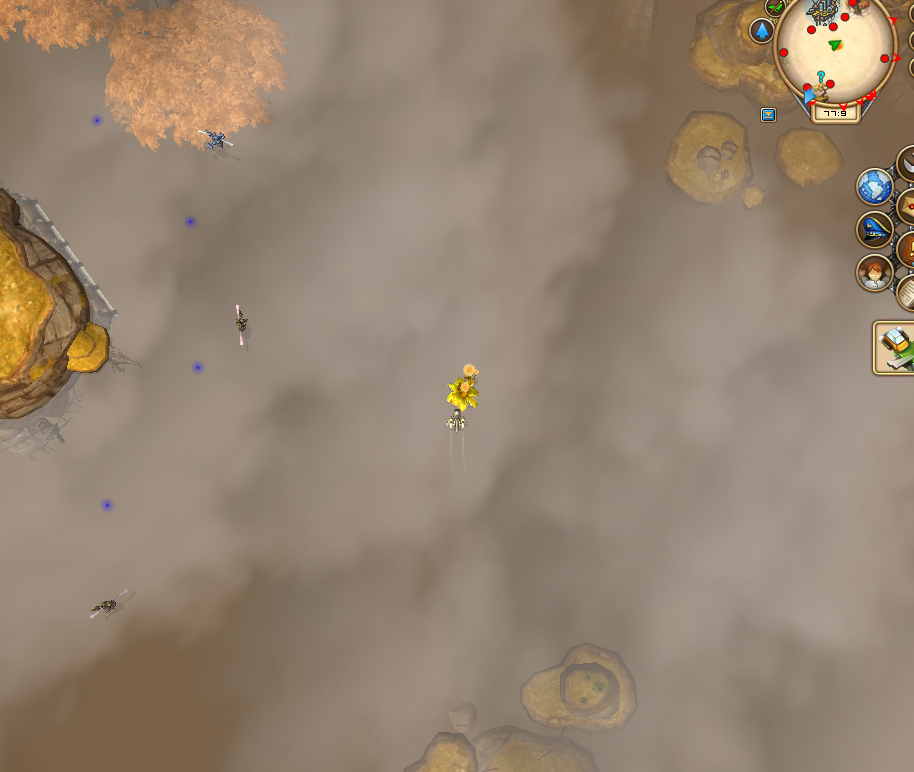dandelion-full: (446, 361, 482, 418)
